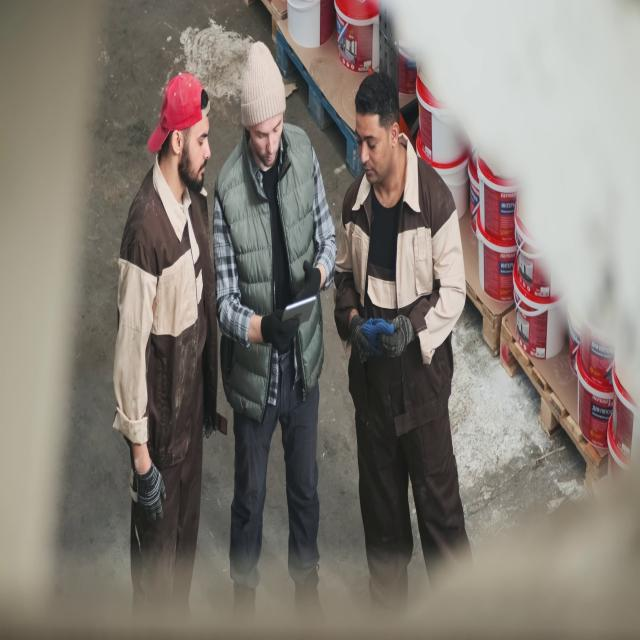gloved: (349, 314, 394, 364), (134, 461, 166, 523), (260, 308, 300, 354), (380, 314, 414, 358), (294, 260, 321, 303)
